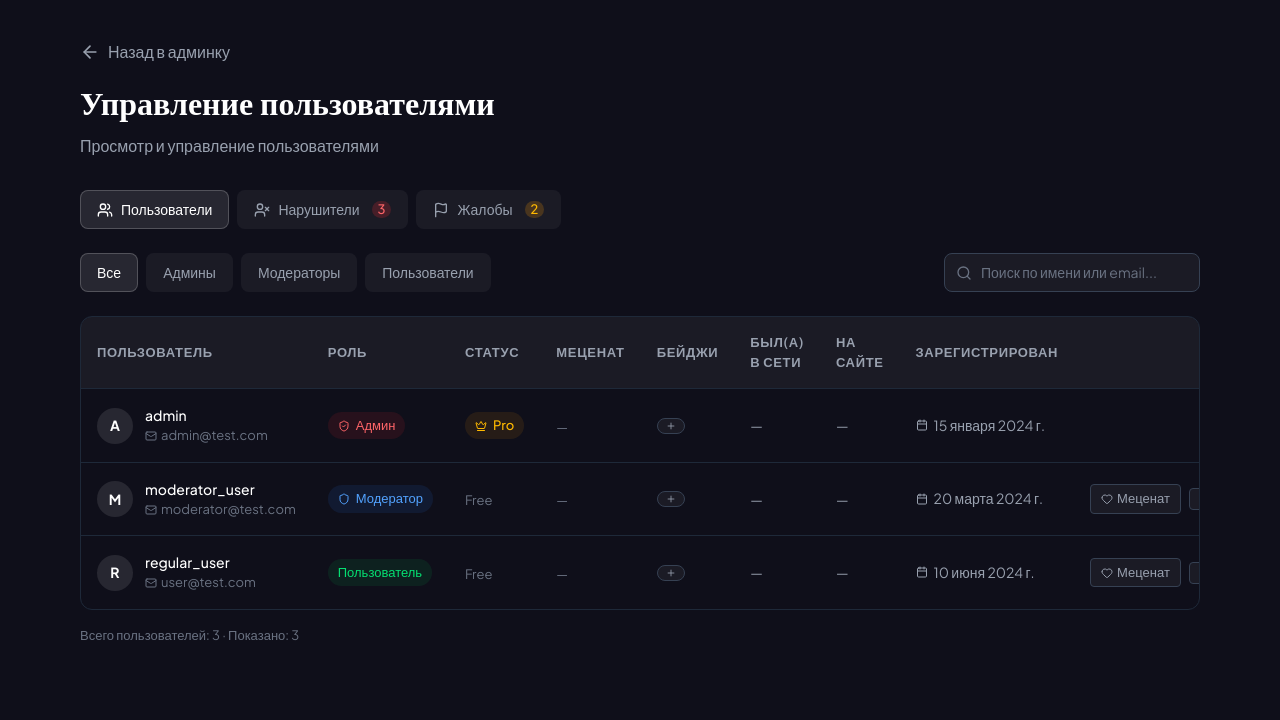
Scenario: AdminUsersPage — жалобы › должен переключаться на вкладку Жалобы и показывать список
Expected: the heading "Управление пользователями" is shown, [80,91,495,123]
Step 1. Click the button "Жалобы 2" → (489, 210), box [416,190,561,229]
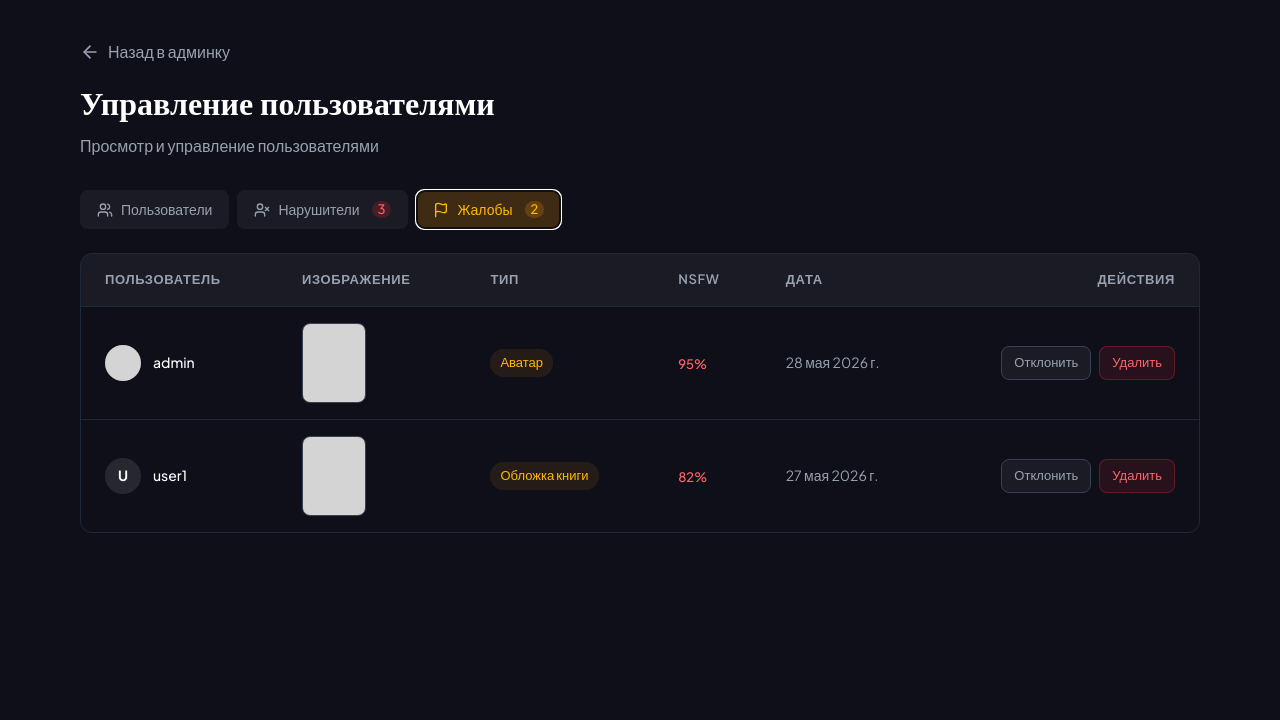
Now the text "user1" is shown, box [153,465,187,486]
Now the text "Аватар" is shown, box [490,349,553,377]
Now the text "Обложка книги" is shown, box [490,462,598,490]
